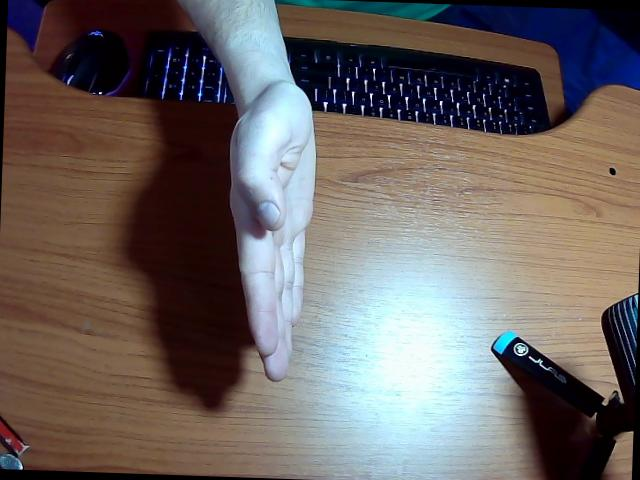paper: (177, 0, 316, 381)
